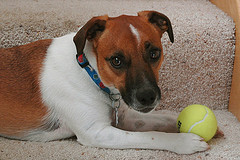tennis ball: (176, 103, 217, 144)
